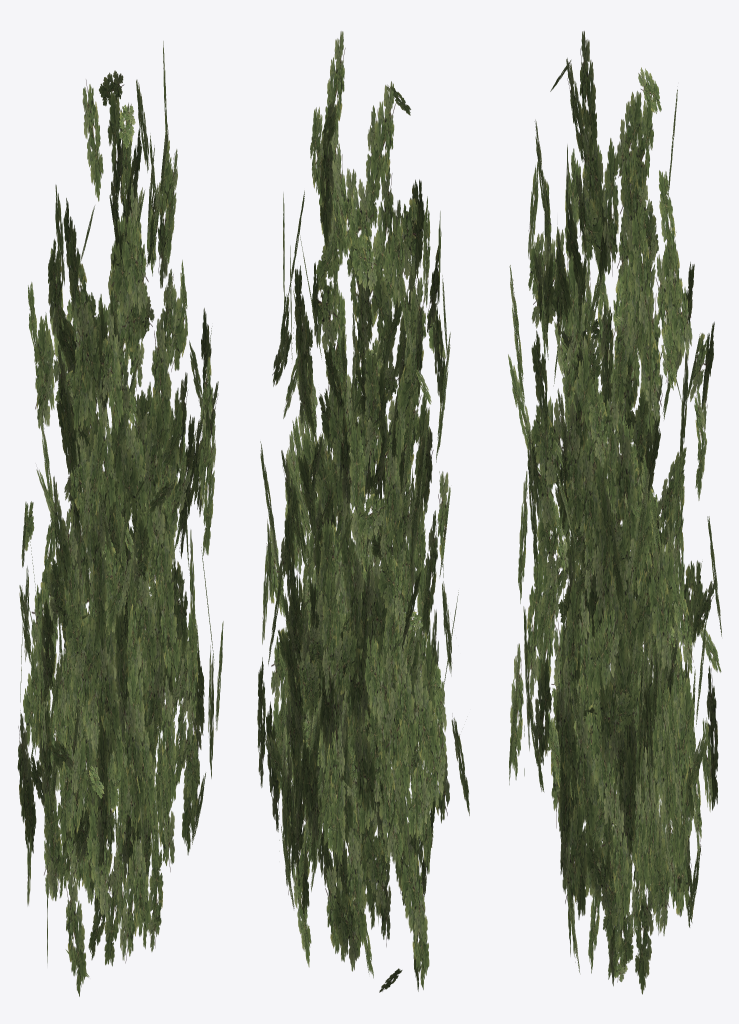
Rendered from tree98.glb.
The picture shows the model from 3 angles, left to right: view 1: azimuth 30°, elevation 25°; view 2: azimuth 150°, elevation 25°; view 3: azimuth 270°, elevation 25°; orthographic projection. The views are drawn at different scales.
Visible parts, largest first — view 1: Cube; view 2: Cube; view 3: Cube.
Boxes of the visible parts, <box> form: Cube: <box>17,41,223,996</box>; Cube: <box>257,31,469,992</box>; Cube: <box>508,31,721,994</box>.
Bounding box in the file's own units: 9.24 × 47.83 × 9.44.
1 material, 1 textured.
